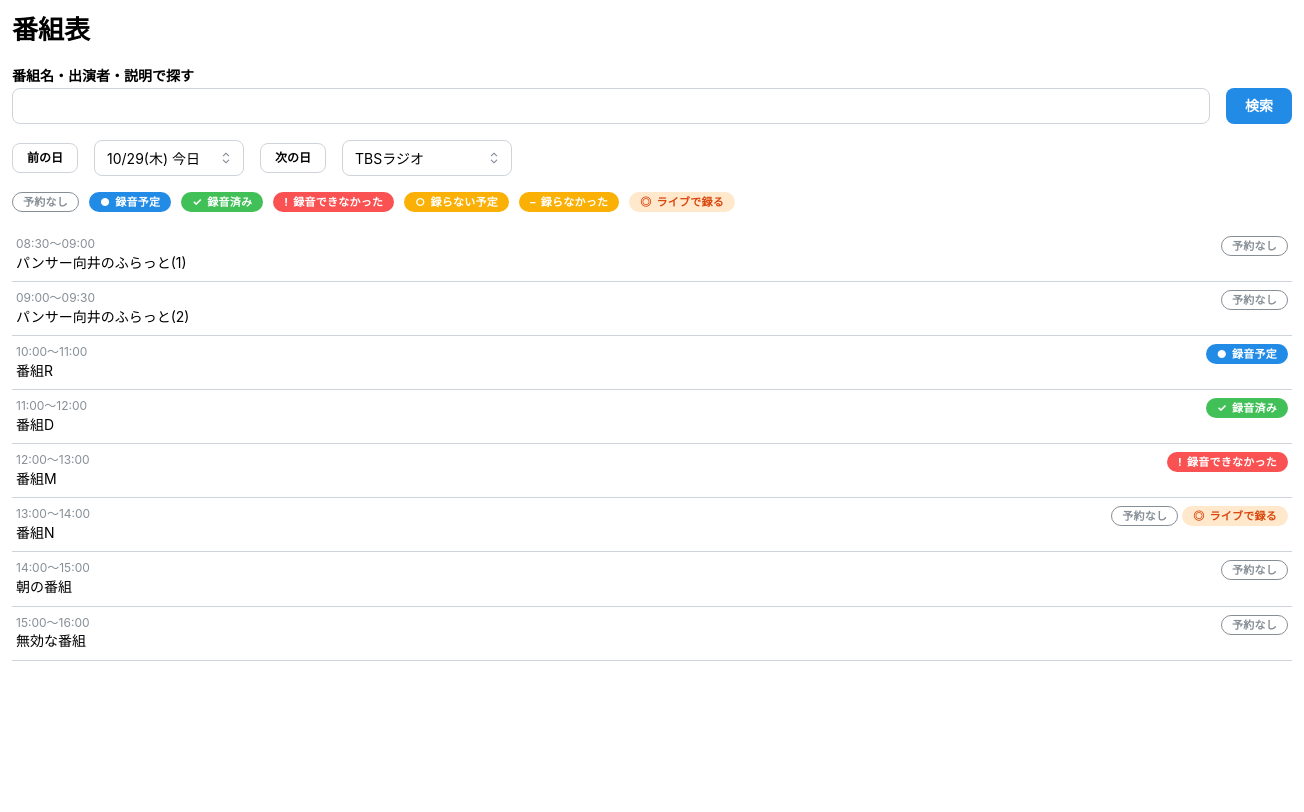
Test: GuidePage の検索 › truncated のときは、絞るよう知らせる
The width and height of the screenshot is (1304, 812).
expect the element with test id "guide-list" is shown: met, box [12, 228, 1292, 661]
Type "ふらっと" into the field labelled "番組名・出演者・説明で探す" at (611, 106), box [12, 88, 1210, 124]
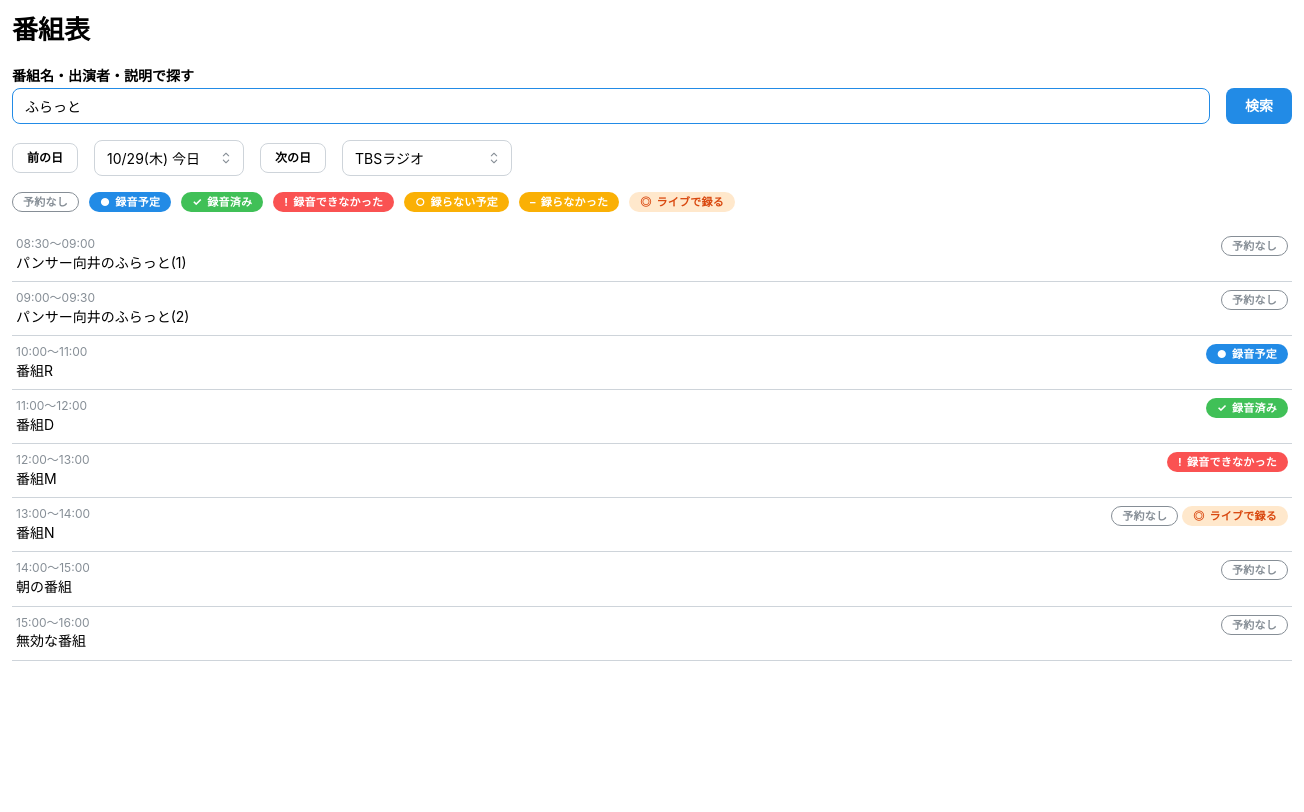
Click the button "検索" at (1259, 106), box [1226, 88, 1292, 124]
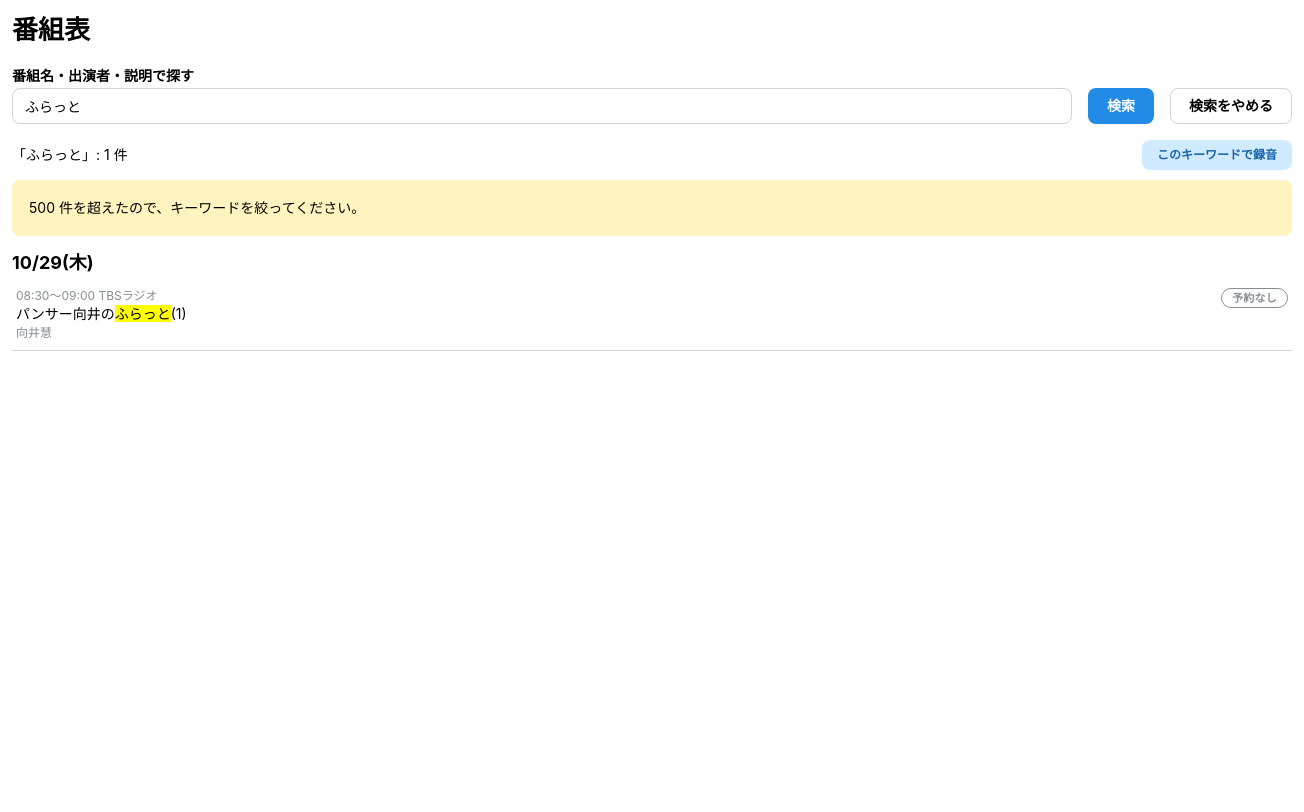
expect the text "500 件を超えたので、キーワードを絞ってください。" is shown: met, box [29, 199, 365, 216]
